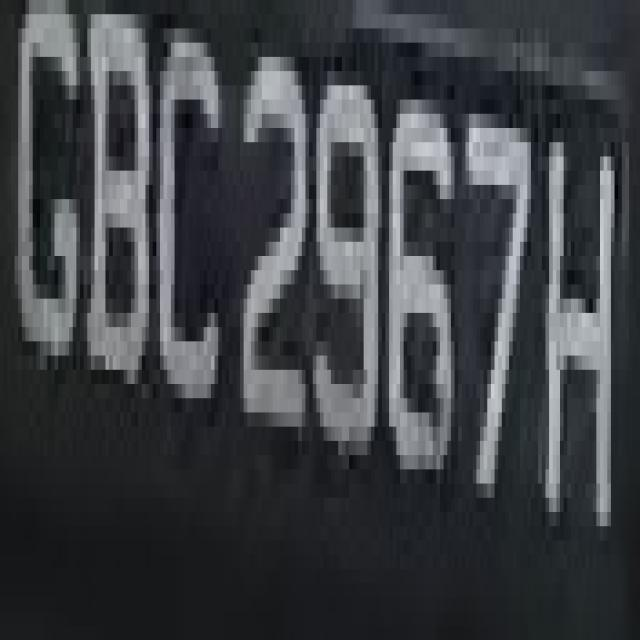2: (233, 28, 320, 470)
6: (378, 71, 462, 512)
7: (462, 43, 538, 526)
9: (309, 42, 382, 498)
B: (84, 14, 160, 398)
C: (153, 14, 229, 455)
G: (4, 0, 80, 384)
H: (534, 114, 614, 540)
